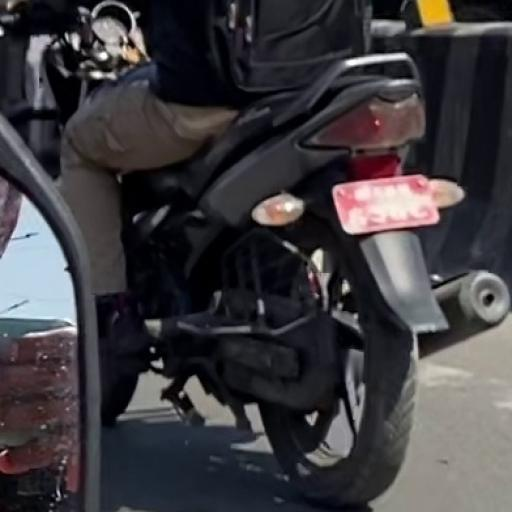license_plate: (334, 172, 446, 237)
